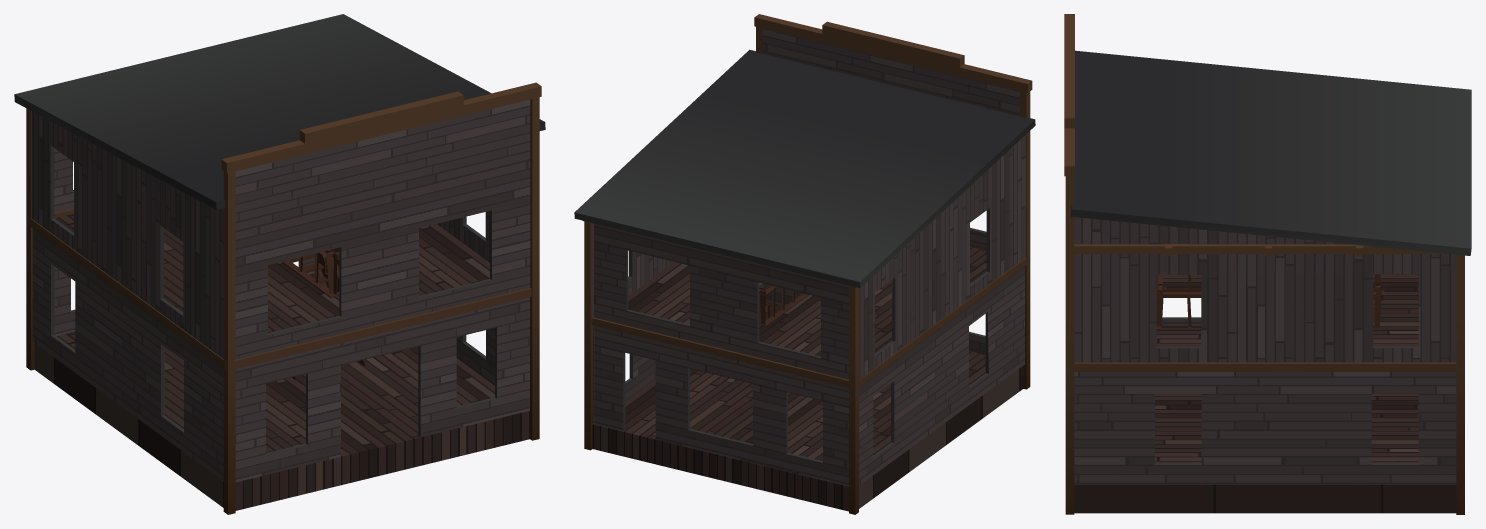
Rendered from House 8 M Gray.glb.
The picture shows the model from 3 angles, left to right: view 1: azimuth 30°, elevation 25°; view 2: azimuth 150°, elevation 25°; view 3: azimuth 270°, elevation 25°; orthographic projection. The views are drawn at different scales.
Visible parts, largest first — view 1: House 8 M Gray; view 2: House 8 M Gray; view 3: House 8 M Gray.
Part boxes in pixels (x1,y1,x2,y2): House 8 M Gray: (14,14,545,514); House 8 M Gray: (574,14,1035,514); House 8 M Gray: (1064,14,1471,514).
Size of what is drawn, in the model's own units: 8.67 by 9.13 by 9.38.
3 materials, 3 textured.
